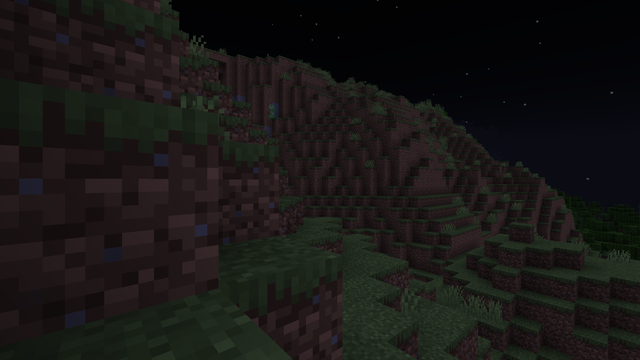creepers: (269, 103, 274, 118)
